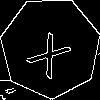X: (25, 23, 79, 80)
